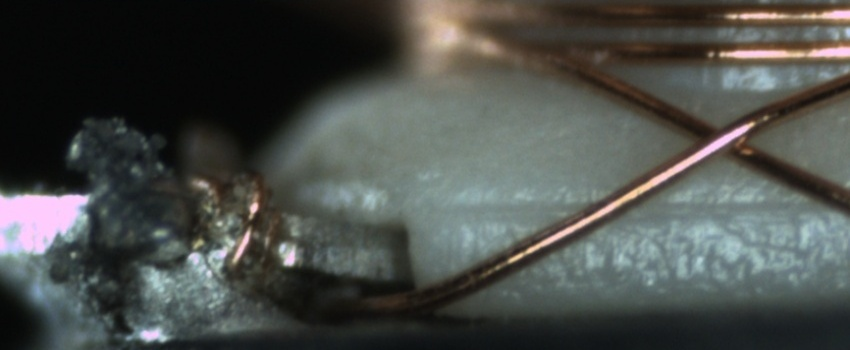CL: (668, 107, 766, 169)
DL: (463, 182, 849, 243)
TE: (177, 160, 287, 266)
